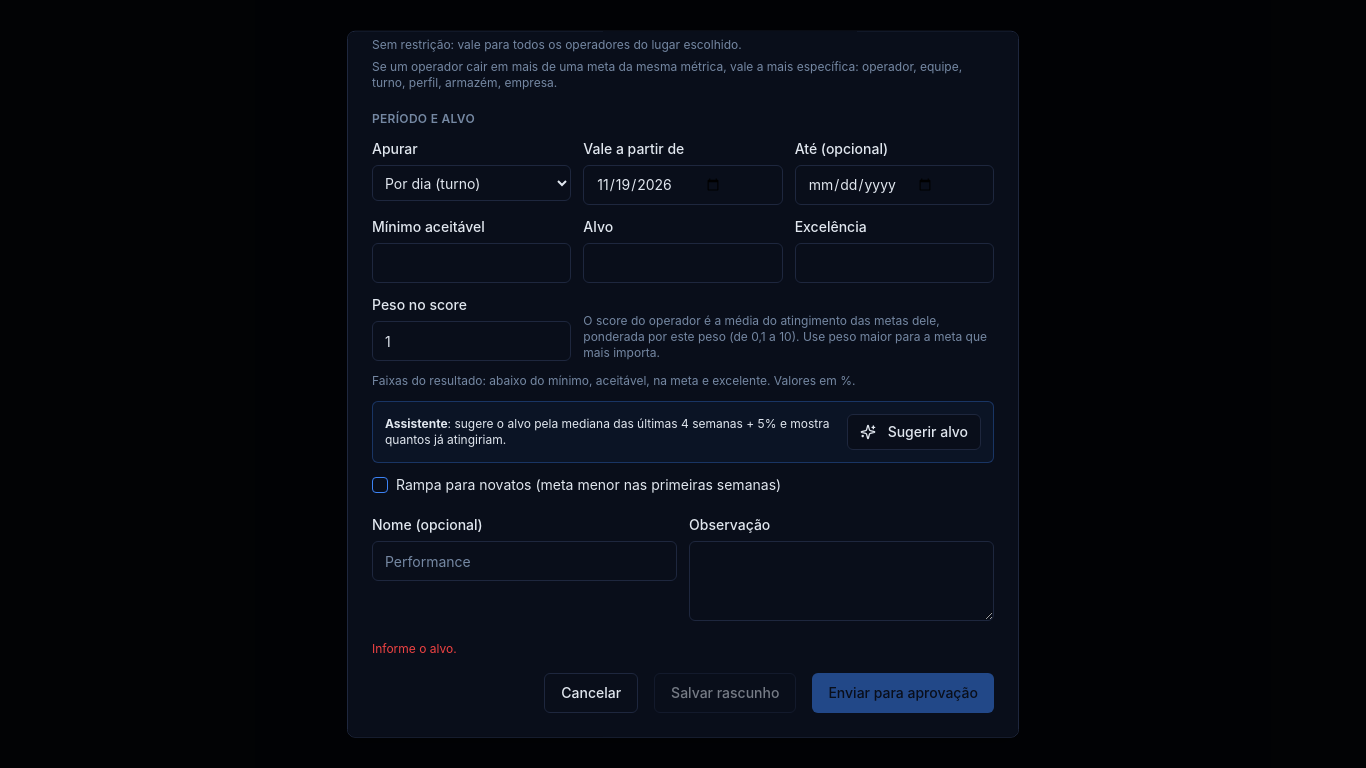
Test: Fase 9 · diálogo de meta › assistente: usar sugestão preenche alvo, mínimo e excelência
The width and height of the screenshot is (1366, 768).
Later steps or results of the test are not shown.
(page scrolled)
What coordinates should you click on to do the following:
click the button "Sugerir alvo"
I would click on:
 (914, 432)
Its box is [847,414,981,450].
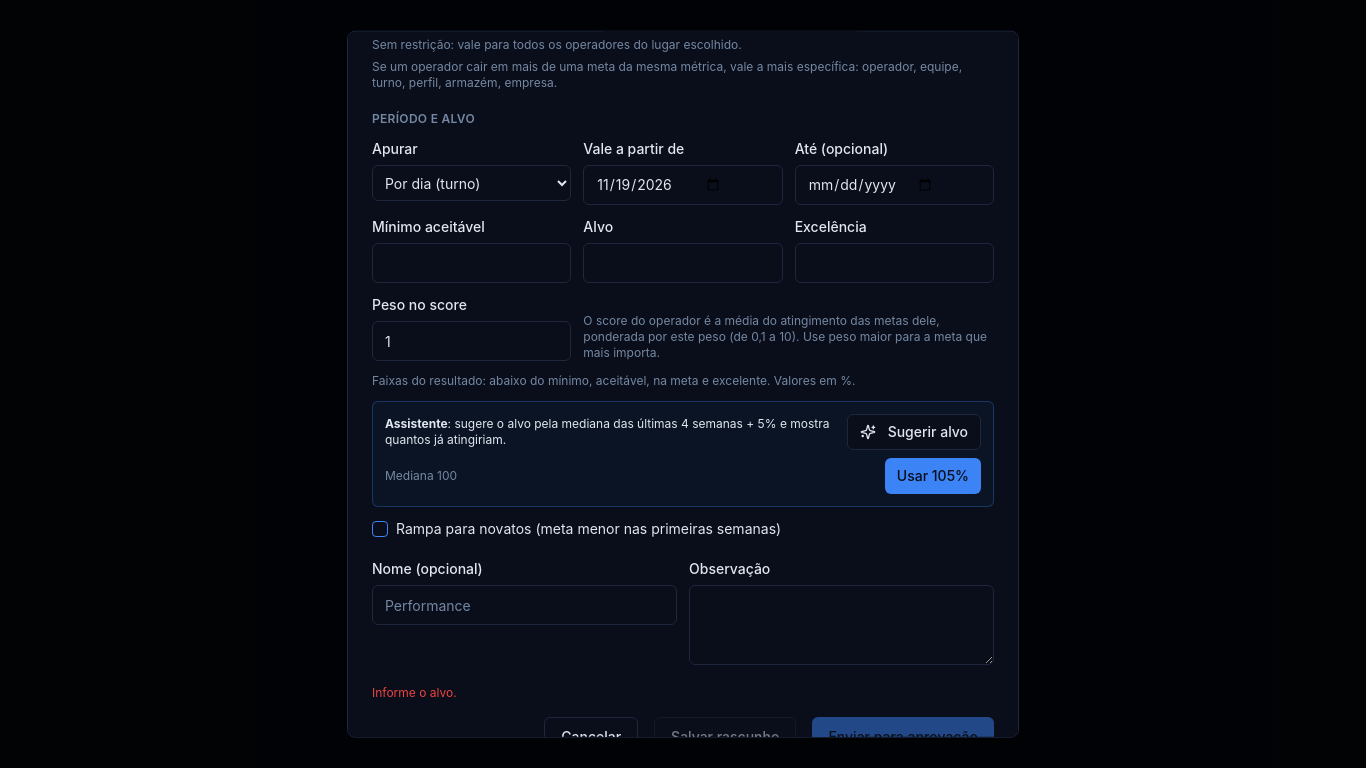
What coordinates should you click on to do the following:
click the button "Usar 105%"
I would click on:
 (933, 476)
Its box is [885,458,981,494].
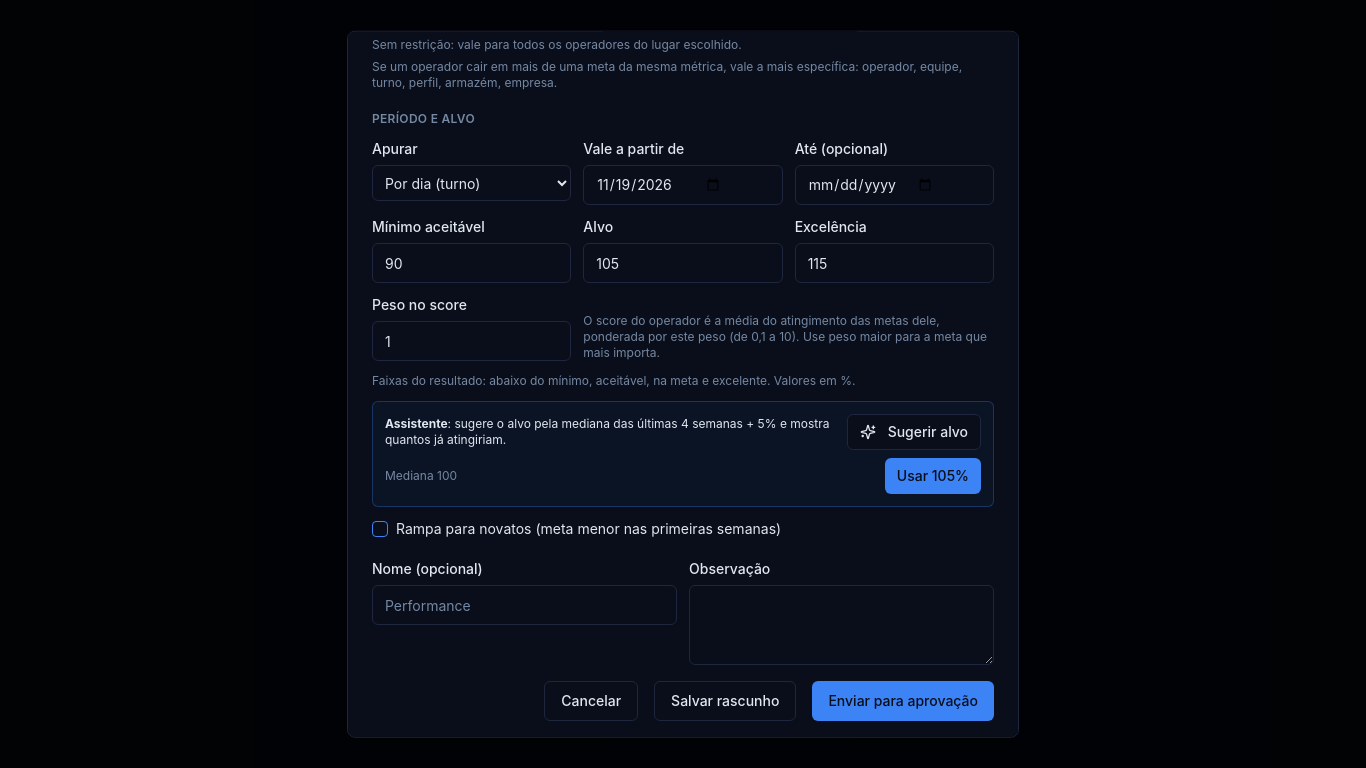
Check: the field labelled "Alvo" holds "105", box [583,243,783,283]
